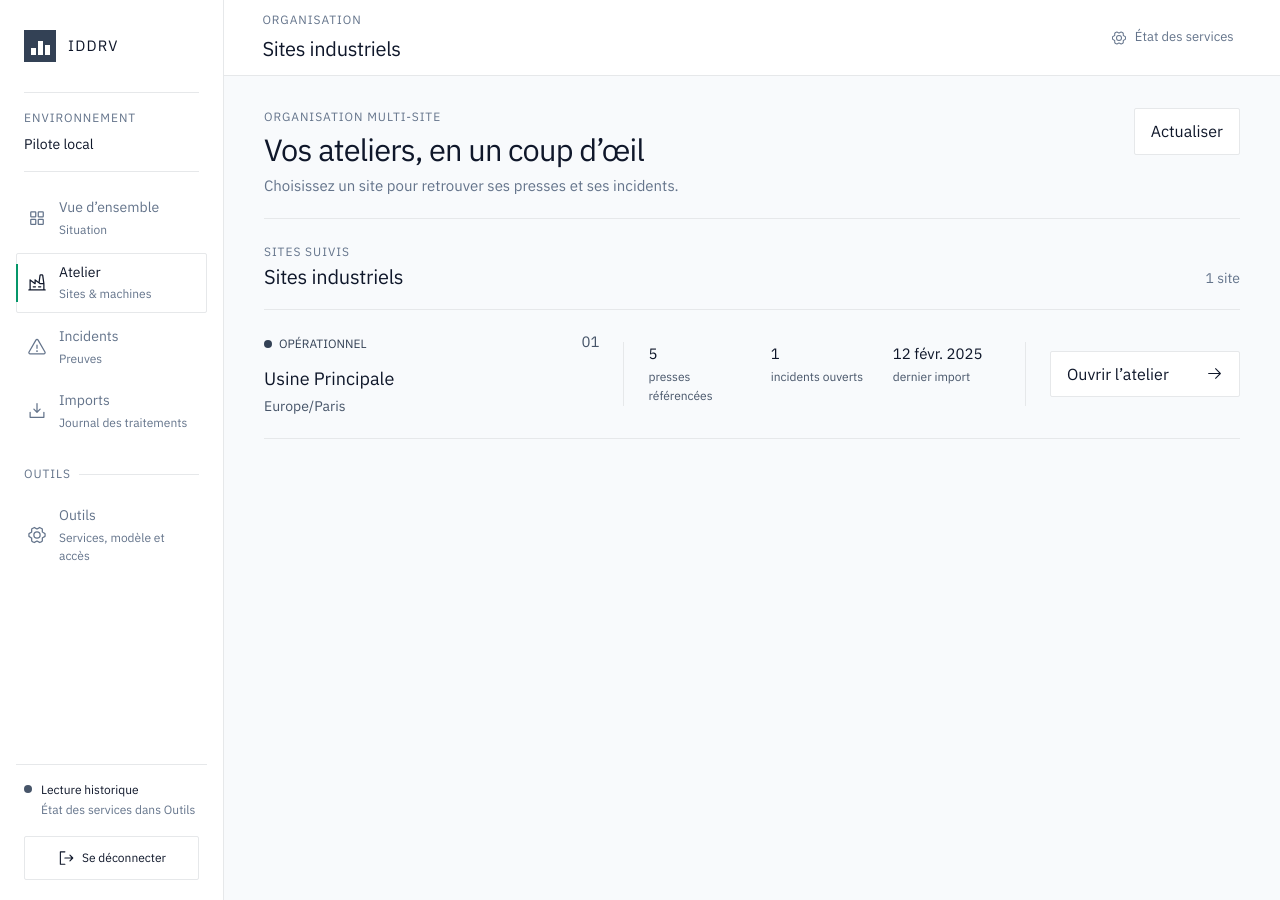
Test case: SitesPage › permet de naviguer vers l’atelier depuis une carte de site
Expected: the heading "Vos ateliers, en un coup d’œil" is shown, [264, 133, 679, 166]
Click the button "Ouvrir l’atelier" at coordinates (1145, 374), box [1050, 350, 1240, 397]
(page scrolled)
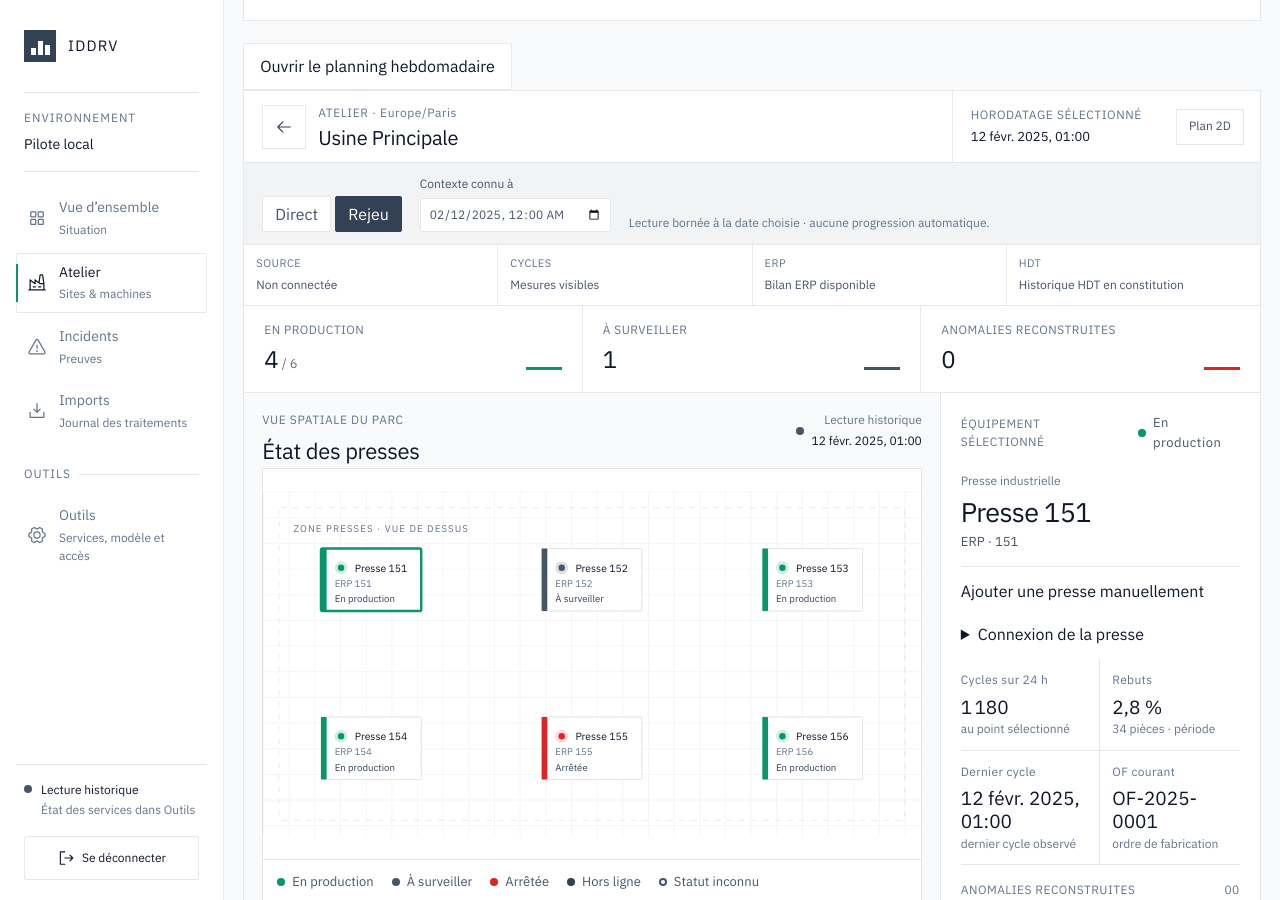
Expected: the heading "État des presses" is shown, [262, 434, 420, 468]
